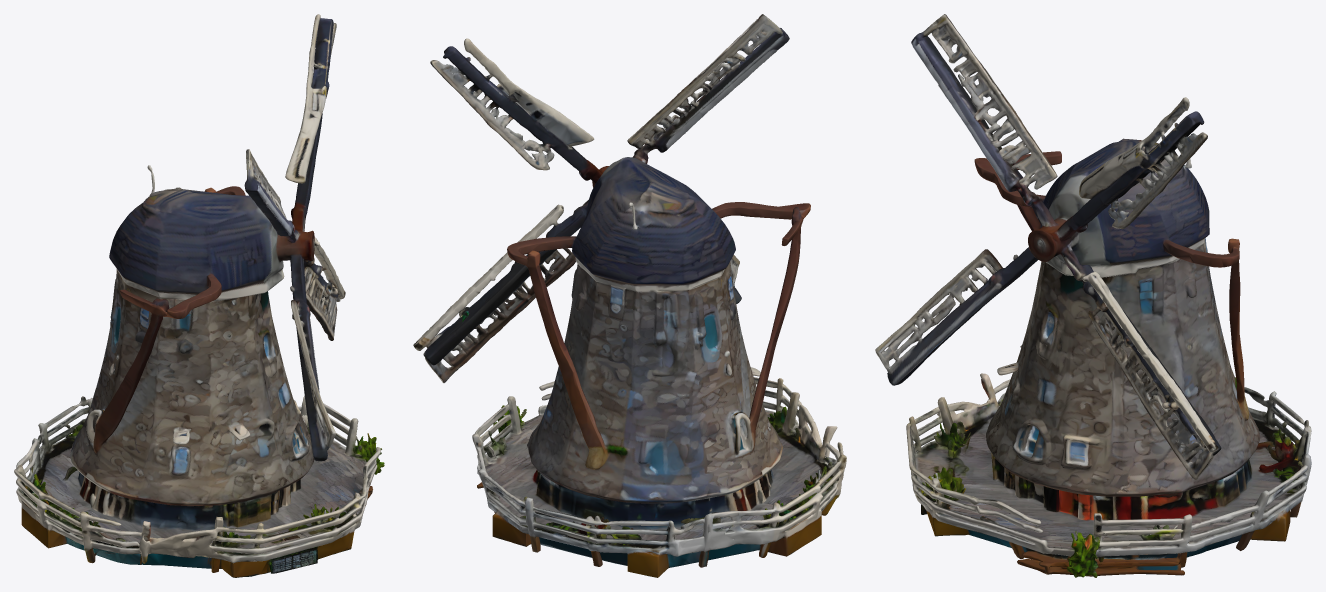
Rendered from building-windmill.glb.
3 views of the same model, side by side, from view 1: azimuth 30°, elevation 25°; view 2: azimuth 150°, elevation 25°; view 3: azimuth 270°, elevation 25° (orthographic). The views are drawn at different scales.
Visible parts, largest first — view 1: tripo_node_6dfccbd3-467e-47ab-8359-e169dcb241f1; view 2: tripo_node_6dfccbd3-467e-47ab-8359-e169dcb241f1; view 3: tripo_node_6dfccbd3-467e-47ab-8359-e169dcb241f1.
Part boxes in pixels (box(x1,y1,x2,y2)): tripo_node_6dfccbd3-467e-47ab-8359-e169dcb241f1: box(14, 14, 384, 577); tripo_node_6dfccbd3-467e-47ab-8359-e169dcb241f1: box(413, 14, 846, 577); tripo_node_6dfccbd3-467e-47ab-8359-e169dcb241f1: box(875, 14, 1311, 577).
Size of the model in its own units: 10.11 by 12 by 9.78.
1 material, 1 textured.
